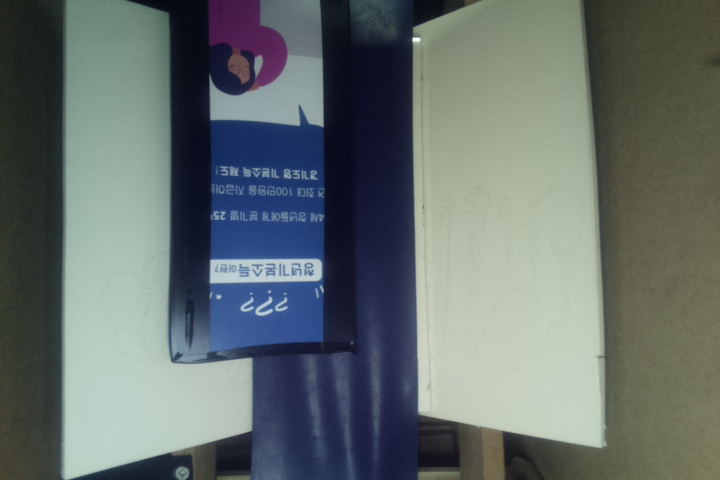book: (167, 1, 360, 362)
